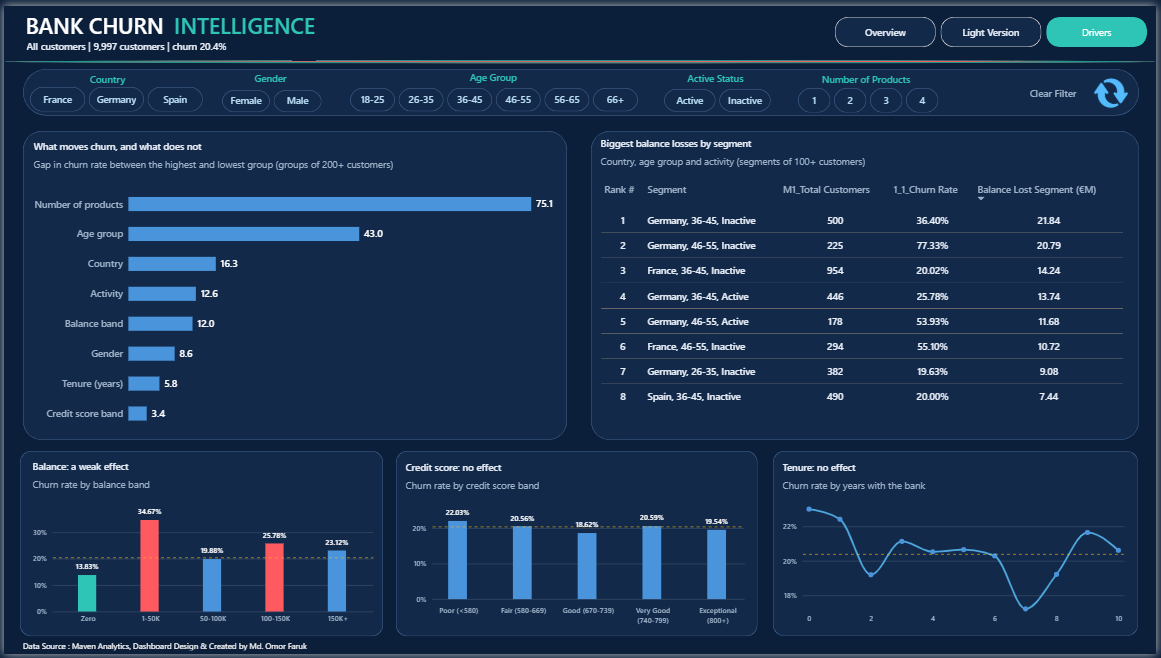

This screenshot's page, from the dashboard's own definition file:
{"tool":"powerbi","page":{"name":"Drivers","canvas":[1920,1080],"ordinal":2},"visuals":[{"type":"shape","box":[978.3,208.3,913.3,515],"z":0},{"type":"shape","box":[26.2,741.2,605,308.8],"z":1000},{"type":"shape","box":[653.8,741.2,602.5,308.8],"z":2000},{"type":"shape","box":[31.1,105.6,1860,77.8],"z":3000},{"type":"clusteredColumnChart","title":"Balance: a weak effect","fields":{"Category":["BankChurn_Cleaned.BalanceBand"],"Y":["_Measures_KPI_Label.1_1_Churn Rate"]},"box":[31.4,741.4,600,308.6],"z":4000},{"type":"shape","box":[31.7,208.3,906.7,515],"z":5000},{"type":"clusteredColumnChart","title":"Credit score: no effect","fields":{"Category":["BankChurn_Cleaned.CreditScoreBand"],"Y":["_Measures_KPI_Label.1_1_Churn Rate"]},"box":[652.9,742.9,604.3,307.1],"z":6000},{"type":"shape","box":[1281.7,741.7,608.3,308.3],"z":7000},{"type":"advancedSlicerVisual","fields":{"Values":["BankChurn_Cleaned.Gender"]},"box":[363.1,140,166.7,37.8],"z":8000,"group":"g1"},{"type":"lineChart","title":"Tenure: no effect","fields":{"Category":["BankChurn_Cleaned.Tenure"],"Y":["_Measures_KPI_Label.1_1_Churn Rate"]},"box":[1281.7,743.3,601.7,306.7],"z":8000},{"type":"advancedSlicerVisual","fields":{"Values":["BankChurn_Cleaned.AgeGroup"]},"box":[576.4,138.2,480.2,39.9],"z":9000,"group":"g1"},{"type":"tableEx","title":"Biggest balance losses by segment","fields":{"Values":["_Measure_Page2.Rank #","BankChurn_Cleaned.Segment","_Measures_KPI.M1_Total Customers","_Measures_KPI_Label.1_1_Churn Rate","_Measure_Page2.Balance Lost Segment (€M)"]},"box":[978.3,203.3,905,520],"z":9000},{"type":"advancedSlicerVisual","fields":{"Values":["BankChurn_Cleaned.ActiveStatus"]},"box":[1099.3,139.6,178.3,38.3],"z":10000,"group":"g1"},{"type":"clusteredBarChart","title":"What moves churn, and what does not","fields":{"Category":["Factor.Factor"],"Y":["_Measure_Page2.Churn Gap pp"]},"box":[32.9,208.6,905,520],"z":10000},{"type":"group","id":"g1","title":"Group 4","box":[43.1,109,1517.2,69.2],"z":11000},{"type":"advancedSlicerVisual","fields":{"Values":["BankChurn_Cleaned.NumOfProducts"]},"box":[1323.7,136.5,236.7,41.7],"z":11000,"group":"g1"},{"type":"shape","box":[0,90,1920,5.7],"z":12000},{"type":"advancedSlicerVisual","fields":{"Values":["BankChurn_Cleaned.Geography"]},"box":[43.1,135.7,290,41.7],"z":12000,"group":"g1"},{"type":"shape","box":[0,6.1,301.4,50],"z":13000},{"type":"shape","box":[280,6.1,241.4,50],"z":14000},{"type":"pageNavigator","box":[1385,17.5,521.7,50],"z":15000},{"type":"cardVisual","fields":{"Data":["_Measure_Subtitle.Dashboard Subtitle2"]},"box":[21.7,41.7,668.3,48.3],"z":16000},{"type":"textbox","box":[132.4,111.5,78.2,27.1],"z":17000,"group":"g1"},{"type":"shape","box":[31.1,1050,761.1,30],"z":17000},{"type":"textbox","box":[406.3,110.1,75,27.8],"z":18000,"group":"g1"},{"type":"image","box":[1810,116.7,70,56.7],"z":18000},{"type":"textbox","box":[762,109,107.5,27.8],"z":19000,"group":"g1"},{"type":"shape","box":[1687.1,122.9,123.3,43.3],"z":19000},{"type":"textbox","box":[1125.5,110.7,120.9,27.7],"z":20000,"group":"g1"},{"type":"textbox","box":[1356.3,112.3,160.1,27],"z":21000,"group":"g1"}]}

Visuals, with their boxes in screenshot pixels (x1, y1, x2, y2), scaled from the page's 1920x1080 canvas onto the 1161x658 screenshot:
shape: box(592, 127, 1144, 441)
shape: box(16, 452, 382, 640)
shape: box(395, 452, 760, 640)
shape: box(19, 64, 1144, 112)
"Balance: a weak effect" clusteredColumnChart: box(19, 452, 382, 640)
shape: box(19, 127, 567, 441)
"Credit score: no effect" clusteredColumnChart: box(395, 453, 760, 640)
shape: box(775, 452, 1143, 640)
advancedSlicerVisual - BankChurn_Cleaned.Gender: box(220, 85, 320, 108)
"Tenure: no effect" lineChart: box(775, 453, 1139, 640)
advancedSlicerVisual - BankChurn_Cleaned.AgeGroup: box(349, 84, 639, 109)
"Biggest balance losses by segment" tableEx: box(592, 124, 1139, 441)
advancedSlicerVisual - BankChurn_Cleaned.ActiveStatus: box(665, 85, 773, 108)
"What moves churn, and what does not" clusteredBarChart: box(20, 127, 567, 444)
"Group 4" group: box(26, 66, 943, 109)
advancedSlicerVisual - BankChurn_Cleaned.NumOfProducts: box(800, 83, 944, 109)
shape: box(0, 55, 1160, 58)
advancedSlicerVisual - BankChurn_Cleaned.Geography: box(26, 83, 201, 108)
shape: box(0, 4, 182, 34)
shape: box(169, 4, 315, 34)
pageNavigator: box(837, 11, 1153, 41)
cardVisual - _Measure_Subtitle.Dashboard Subtitle2: box(13, 25, 417, 55)
textbox: box(80, 68, 127, 84)
shape: box(19, 640, 479, 657)
textbox: box(246, 67, 291, 84)
image: box(1094, 71, 1137, 106)
textbox: box(461, 66, 526, 83)
shape: box(1020, 75, 1095, 101)
textbox: box(681, 67, 754, 84)
textbox: box(820, 68, 917, 85)
